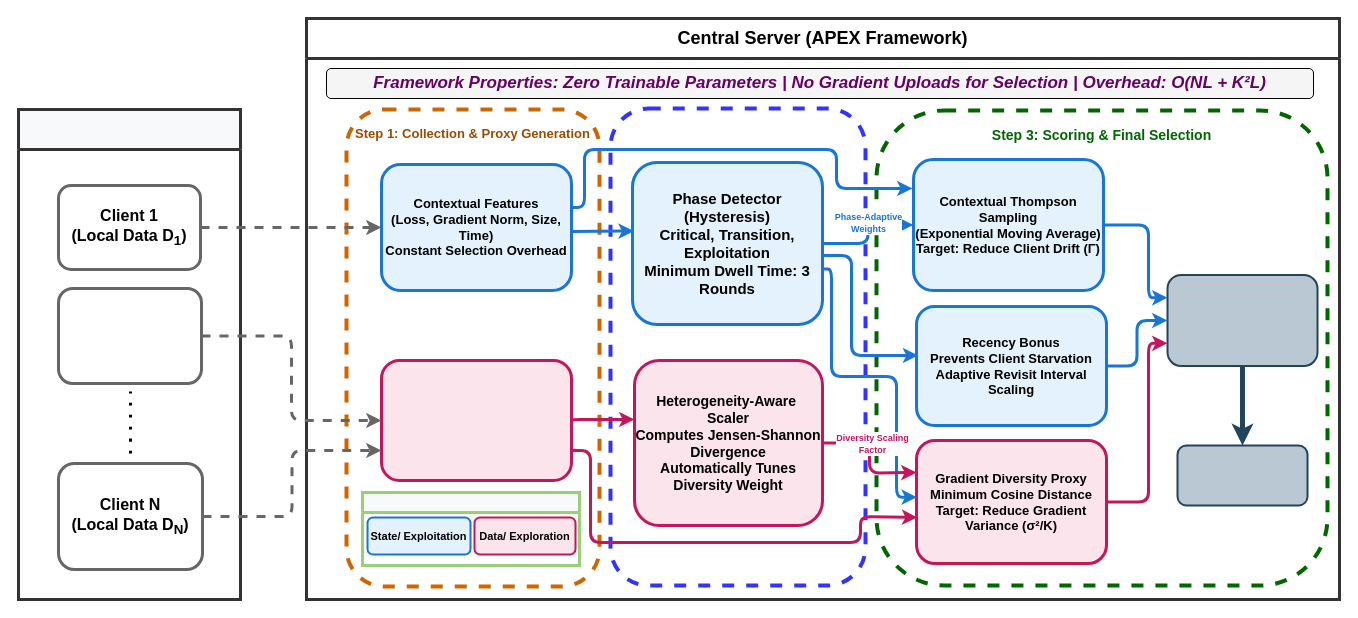
Some shapes in this 1358 by 618 pixel diagram are drawn without their labels. Here are the shapes that lost their labels. From the top down, the box of each, then its label:
(56, 286, 202, 384): Client 2 (Local Data D 2 )
(1166, 274, 1318, 366): Greedy Client Selection Computes Final Weighted Score (Selects Optimal Subset K)
(16, 108, 242, 600): Client Devices (Non-IID Data) N Total Clients
(608, 106, 867, 587): Step 2: Adaptive Controls
(380, 358, 572, 482): Label Histograms (Diversity Proxy Vectors) Dimensions: L Label Classes
(1176, 444, 1308, 506): Global Model Aggregator
(360, 490, 580, 566): Color Legend
